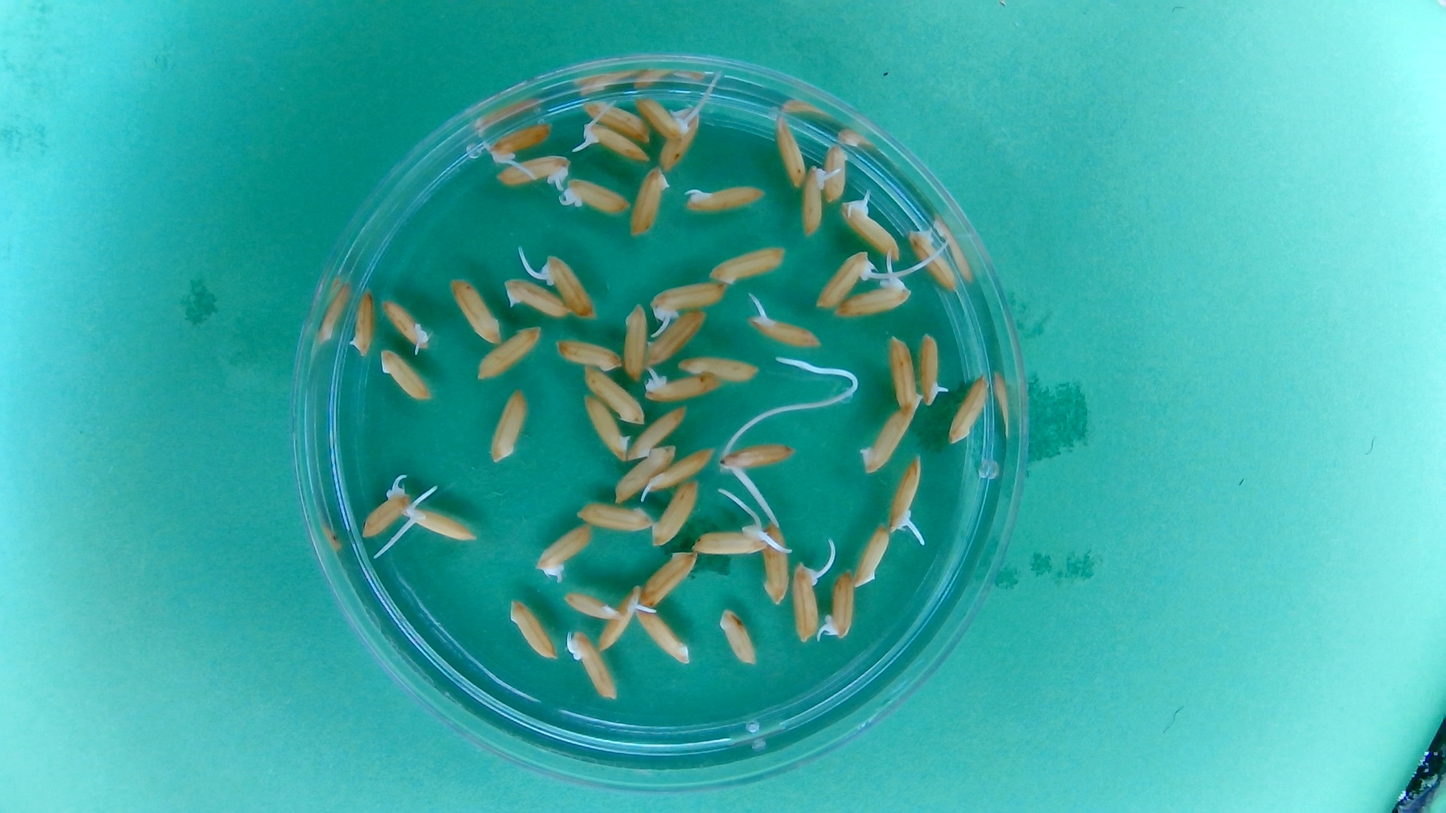no: (856, 401, 918, 476), (581, 363, 648, 425), (639, 445, 718, 496), (613, 443, 679, 504), (447, 273, 502, 346), (474, 324, 543, 382), (643, 307, 708, 368), (627, 401, 690, 461), (649, 478, 703, 547), (638, 547, 699, 608), (633, 604, 692, 666), (705, 242, 789, 285), (486, 385, 529, 464), (946, 371, 991, 446), (627, 164, 671, 239), (506, 596, 557, 660), (501, 276, 574, 319), (884, 334, 923, 413), (378, 346, 433, 402), (759, 520, 792, 607), (770, 112, 807, 189), (575, 498, 654, 532), (676, 352, 760, 383), (717, 604, 759, 666), (554, 335, 623, 372), (659, 113, 703, 171), (853, 522, 891, 589), (587, 99, 647, 137), (620, 300, 648, 381), (346, 285, 376, 358), (822, 141, 852, 206), (562, 588, 620, 620)
yes: (566, 627, 620, 702), (540, 253, 598, 321), (840, 196, 900, 260), (813, 248, 874, 309), (905, 225, 959, 293), (533, 522, 593, 579), (648, 279, 731, 320), (581, 393, 631, 461), (360, 477, 413, 540), (403, 500, 477, 544), (886, 453, 925, 534), (834, 278, 911, 319), (789, 557, 825, 644), (681, 180, 768, 215), (746, 309, 822, 349), (485, 119, 554, 163), (578, 120, 651, 161), (641, 367, 723, 403), (691, 523, 775, 558), (596, 586, 641, 651), (493, 153, 572, 190), (379, 296, 430, 352), (560, 175, 631, 215), (633, 93, 693, 139), (718, 439, 798, 473), (821, 568, 858, 641), (917, 331, 947, 408), (799, 161, 829, 236)
